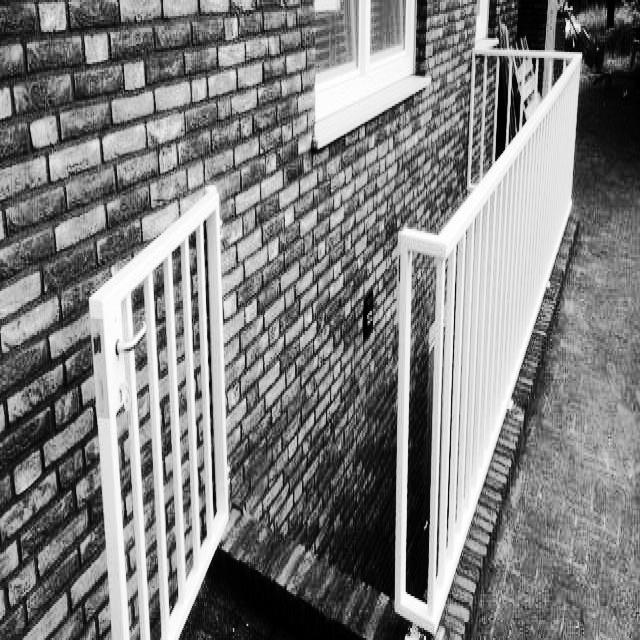fences: (392, 14, 580, 627), (88, 169, 235, 640)
